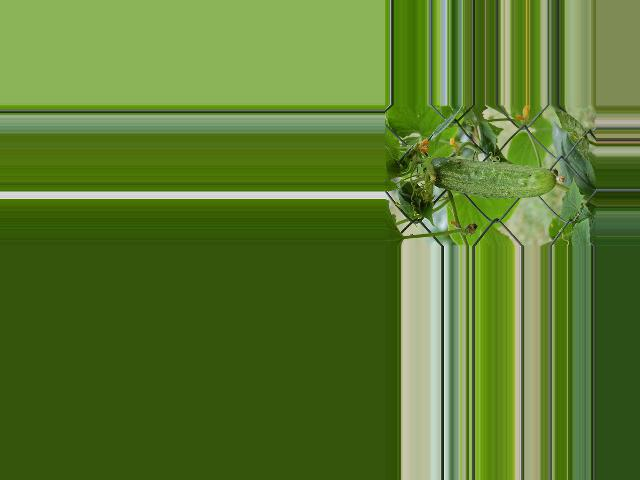cucumber: (424, 158, 564, 198)
